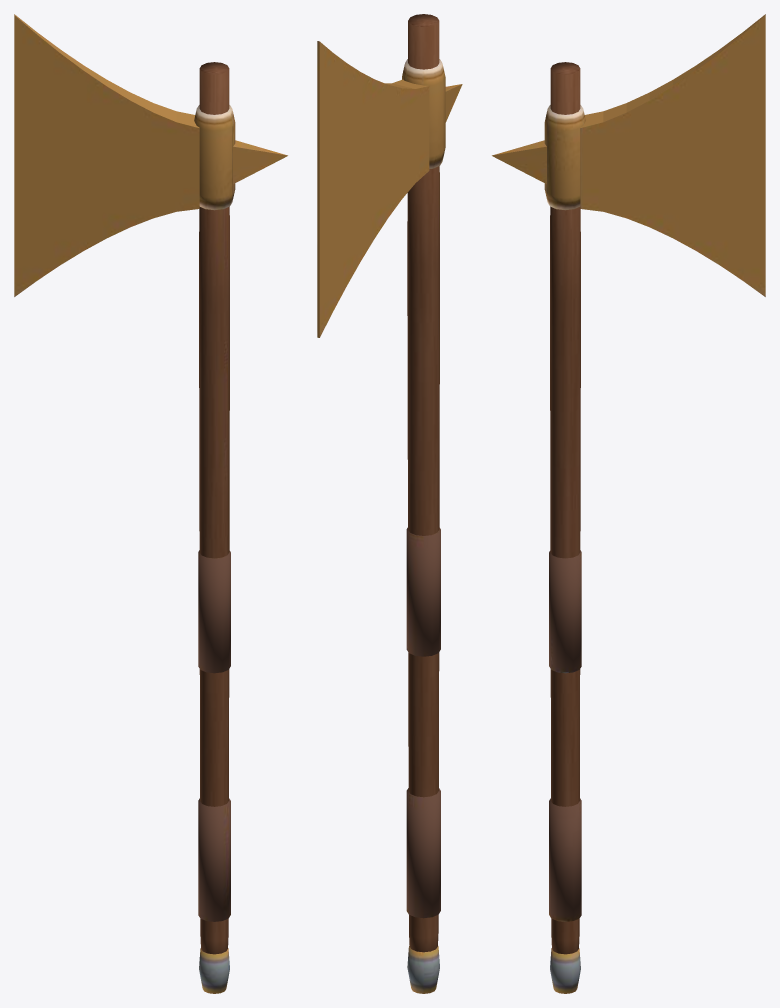
The model's file is axt.glb.
3 views of the same model, side by side, from view 1: azimuth 90°, elevation 25°; view 2: azimuth 150°, elevation 25°; view 3: azimuth 270°, elevation 25° (orthographic). The views are drawn at different scales.
Visible parts, largest first — view 1: axt; view 2: axt; view 3: axt.
Part boxes in pixels (x1=…): axt: x1=14, y1=14, x2=287, y2=993; axt: x1=317, y1=14, x2=462, y2=993; axt: x1=492, y1=14, x2=765, y2=993.
Bounding box in the file's own units: 0.056 × 1.45 × 0.37.
4 materials, 4 textured.
